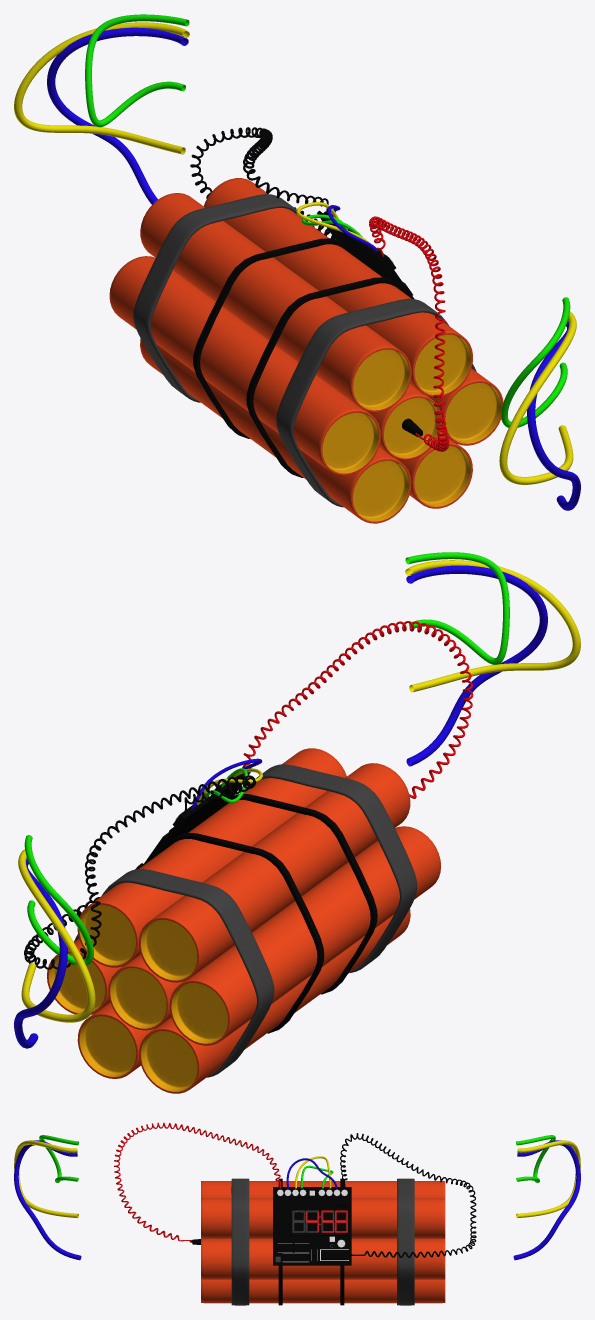
Rendered from Bomba.fbx.
3 renders of one model, top to bottom at view 1: azimuth 30°, elevation 25°; view 2: azimuth 150°, elevation 25°; view 3: azimuth 270°, elevation 25°, orthographic. The views are drawn at different scales.
Parts seen in each view (by area): view 1: Bomba, FiosBomba.001, FiosBomba, EcraBomba; view 2: Bomba, FiosBomba.001, FiosBomba, EcraBomba; view 3: Bomba, EcraBomba, FiosBomba.001, FiosBomba.
Boxes of the visible parts, x1,y1,x2,y2 form: Bomba: [109, 178, 503, 523]; FiosBomba.001: [14, 14, 580, 510]; FiosBomba: [190, 127, 449, 451]; EcraBomba: [317, 210, 414, 298]; Bomba: [47, 748, 440, 1093]; FiosBomba.001: [14, 552, 580, 1048]; FiosBomba: [24, 621, 473, 969]; EcraBomba: [135, 768, 250, 869]; Bomba: [189, 1178, 445, 1305]; EcraBomba: [273, 1187, 351, 1265]; FiosBomba.001: [14, 1135, 580, 1260]; FiosBomba: [114, 1122, 476, 1257].
Size of the model in its own units: 50.16 by 68.17 by 207.
Materials: 16 (1 with a texture image).
